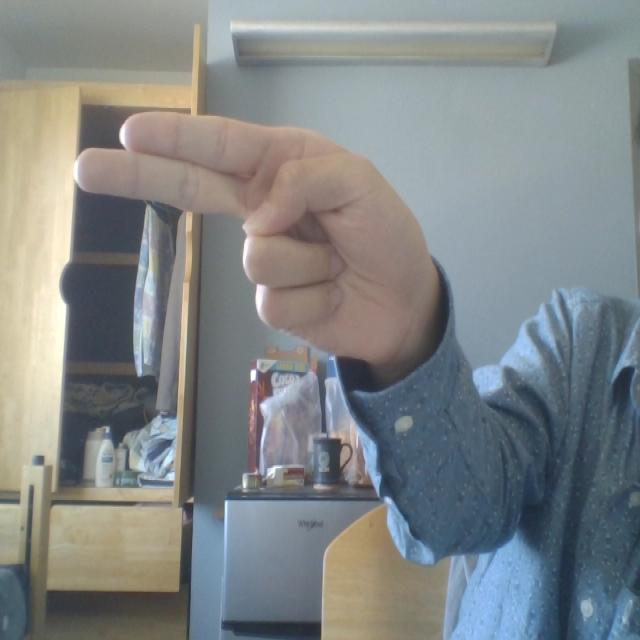H: (60, 74, 440, 406)
